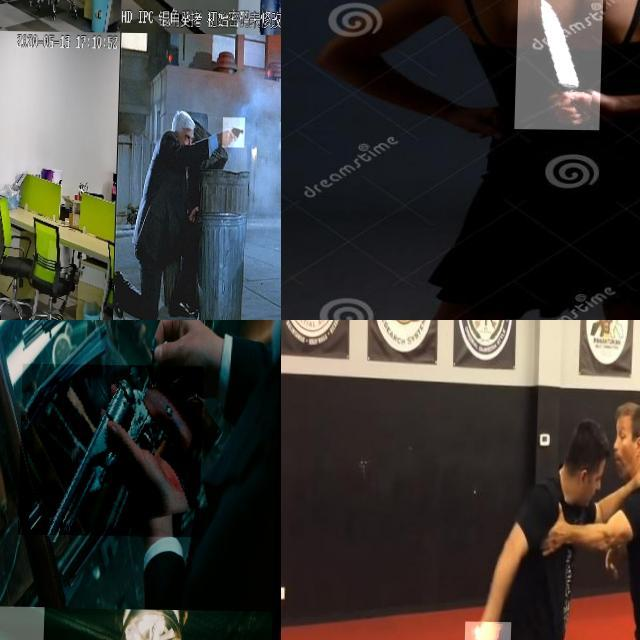-: (516, 0, 604, 129), (465, 620, 513, 640)
gun-knife-thesis - v11 Yolov5 augmented: (19, 362, 204, 536), (0, 383, 16, 450), (225, 116, 248, 146), (0, 157, 8, 213), (0, 0, 8, 27)
